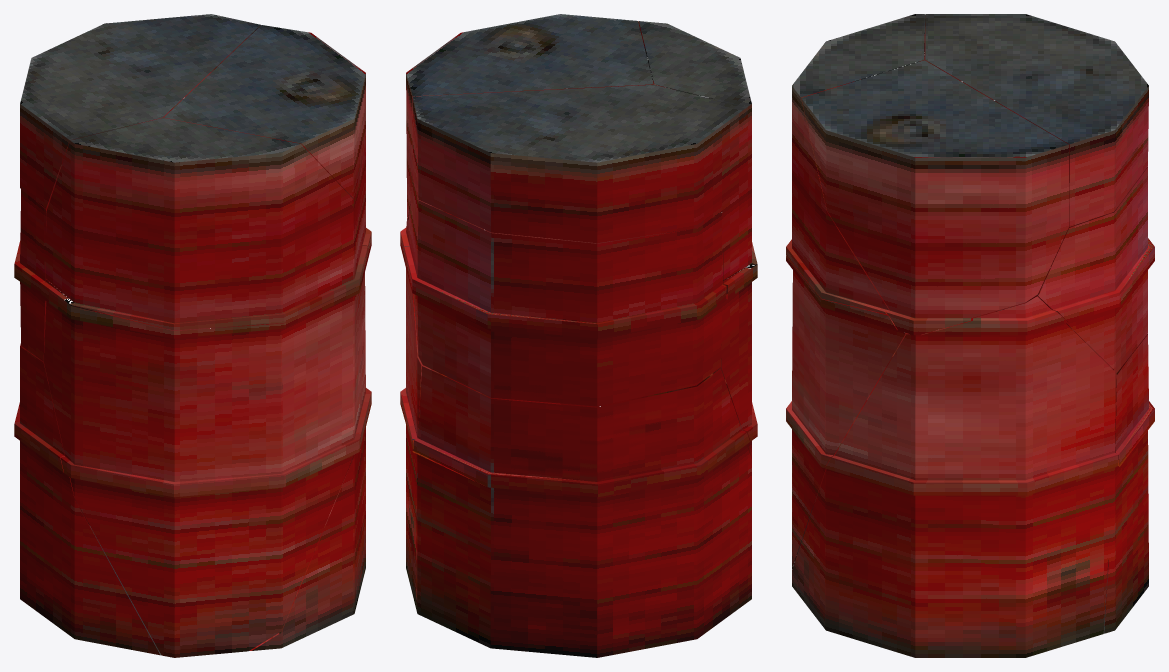
The model's file is game_asset_explosive_barrel_breakable.glb.
3 views of the same model, side by side, from view 1: azimuth 30°, elevation 25°; view 2: azimuth 150°, elevation 25°; view 3: azimuth 270°, elevation 25° (orthographic).
Parts seen in each view (by area): view 1: Cylinder_cell.002, Cylinder_cell.001, Cylinder_cell, Cylinder_cell.003, Cylinder_cell.004, Cylinder_cell.005, Cylinder_cell.006; view 2: Cylinder_cell.004, Cylinder_cell.006, Cylinder_cell, Cylinder_cell.003, Cylinder_cell.001, Cylinder_cell.002, Cylinder_cell.005; view 3: Cylinder_cell.005, Cylinder_cell.003, Cylinder_cell, Cylinder_cell.002, Cylinder_cell.001, Cylinder_cell.006, Cylinder_cell.004.
Boxes of the visible parts, box(x1,y1,x2,y2) form: Cylinder_cell.002: box(41, 248, 369, 657); Cylinder_cell.001: box(46, 118, 367, 330); Cylinder_cell: box(20, 14, 260, 208); Cylinder_cell.003: box(164, 25, 371, 253); Cylinder_cell.004: box(14, 291, 210, 655); Cylinder_cell.005: box(211, 273, 371, 650); Cylinder_cell.006: box(14, 98, 235, 361); Cylinder_cell.004: box(412, 366, 751, 657); Cylinder_cell.006: box(404, 179, 726, 406); Cylinder_cell: box(412, 84, 746, 243); Cylinder_cell.003: box(406, 14, 653, 217); Cylinder_cell.001: box(567, 21, 757, 279); Cylinder_cell.002: box(485, 212, 757, 458); Cylinder_cell.005: box(400, 209, 599, 607); Cylinder_cell.005: box(792, 296, 1119, 657); Cylinder_cell.003: box(801, 60, 1068, 335); Cylinder_cell: box(925, 14, 1148, 226); Cylinder_cell.002: box(786, 207, 909, 568); Cylinder_cell.001: box(786, 14, 961, 314); Cylinder_cell.006: box(995, 101, 1154, 373); Cylinder_cell.004: box(973, 267, 1154, 633).
Bounding box in the file's own units: 1.08 × 1.7 × 1.14.
Materials: 1 (1 with a texture image).
